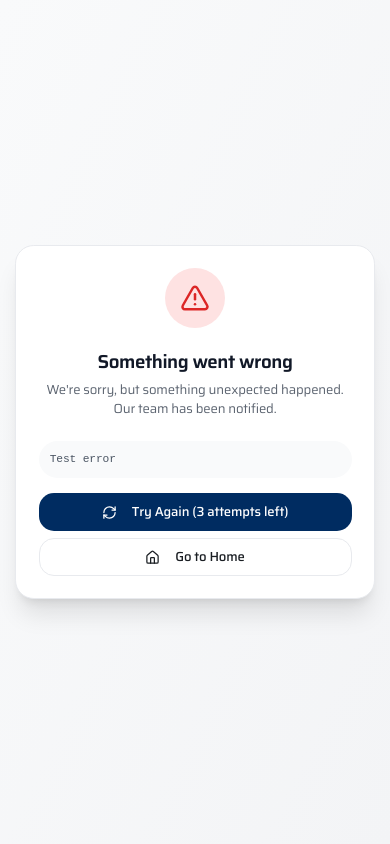
Retry Logic › shows attempts remaining in global error boundary
Click the button "Try Again (3 attempts left)" at (195, 512), box [38, 493, 352, 531]
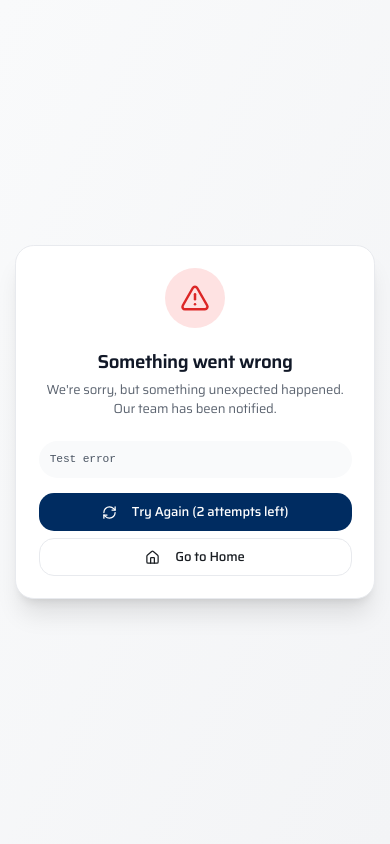
Check: the button "Try Again (2 attempts left)" is shown, box [38, 493, 352, 531]
